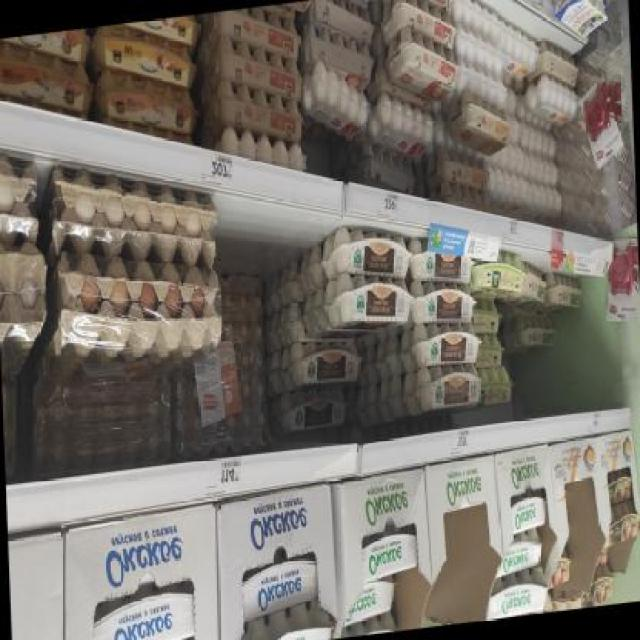Egg: (324, 269, 414, 340), (87, 584, 198, 639), (324, 219, 413, 287), (240, 556, 320, 621), (281, 334, 364, 395), (402, 361, 484, 419), (401, 318, 482, 376), (266, 388, 351, 442), (408, 233, 477, 289), (408, 275, 478, 328), (482, 569, 549, 620), (360, 528, 418, 584), (494, 538, 544, 580), (509, 492, 546, 536)
